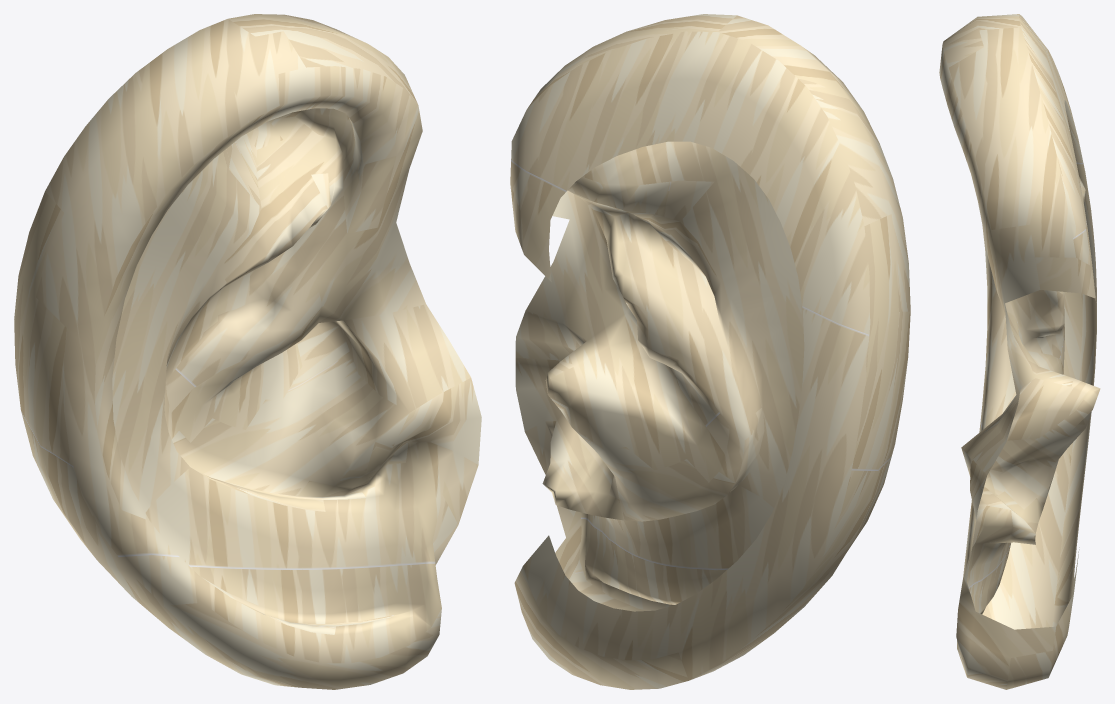
The model's file is oreja.fbx.
The picture shows the model from 3 angles, left to right: view 1: azimuth 30°, elevation 25°; view 2: azimuth 150°, elevation 25°; view 3: azimuth 270°, elevation 25°; orthographic projection. The views are drawn at different scales.
Parts seen in each view (by area): view 1: polySurface1; view 2: polySurface1; view 3: polySurface1.
Boxes of the visible parts, <box> form: polySurface1: <box>14,14,481,689</box>; polySurface1: <box>510,14,910,689</box>; polySurface1: <box>939,14,1100,689</box>.
Size of the model in its own units: 51.21 by 80.19 by 19.41.
